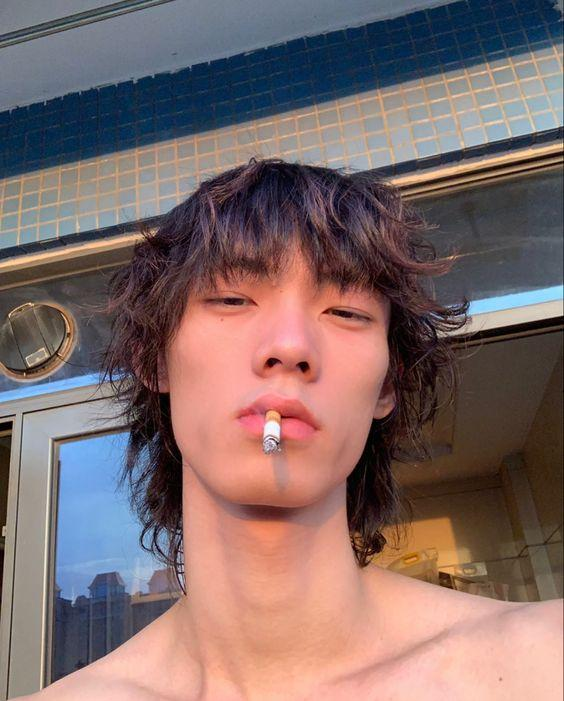cigarette: (263, 409, 281, 454)
